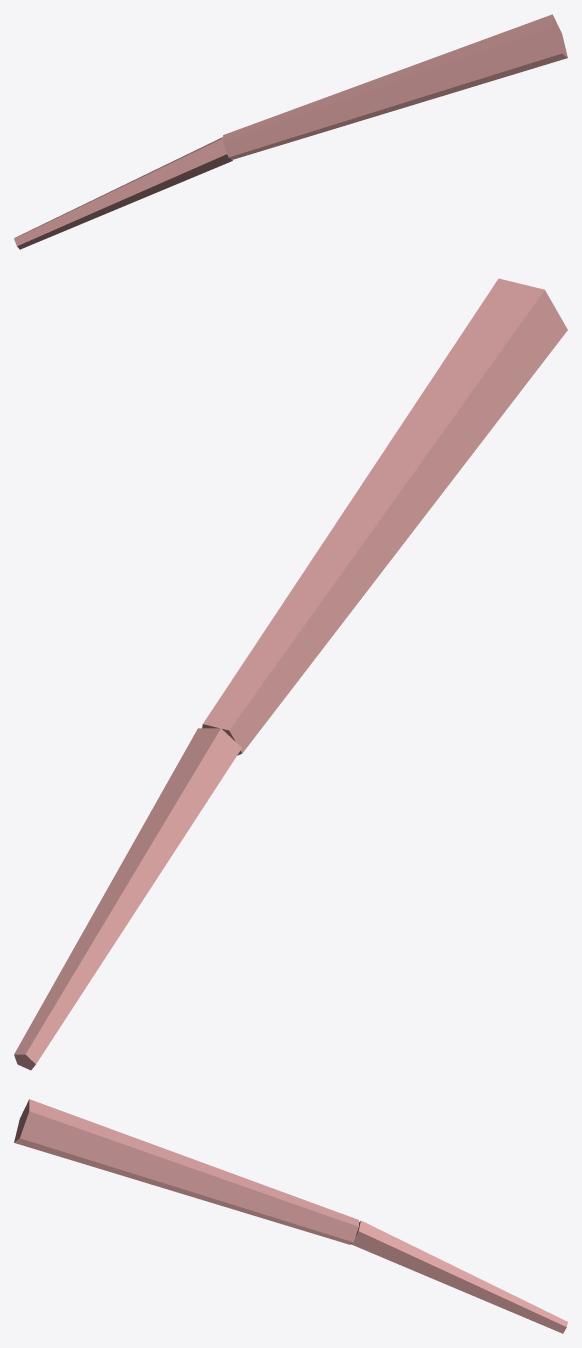
File: rat_0_tail.glb
The picture shows the model from 3 angles, top to bottom: view 1: azimuth 90°, elevation 25°; view 2: azimuth 150°, elevation 25°; view 3: azimuth 270°, elevation 25°; orthographic projection. The views are drawn at different scales.
Parts seen in each view (by area): view 1: rat_0_tail; view 2: rat_0_tail; view 3: rat_0_tail.
Part boxes in pixels (box(x1,y1,x2,y2)): rat_0_tail: box(14, 14, 567, 249); rat_0_tail: box(14, 278, 567, 1070); rat_0_tail: box(14, 1099, 567, 1333).
Bounding box in the file's own units: 0.0266 × 0.144 × 0.3165.
